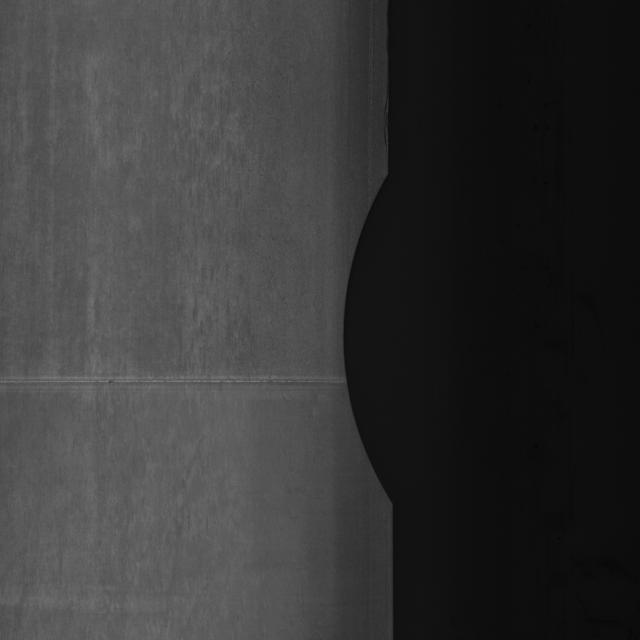crease: (6, 353, 359, 399)
silk_spot: (334, 146, 424, 518)
